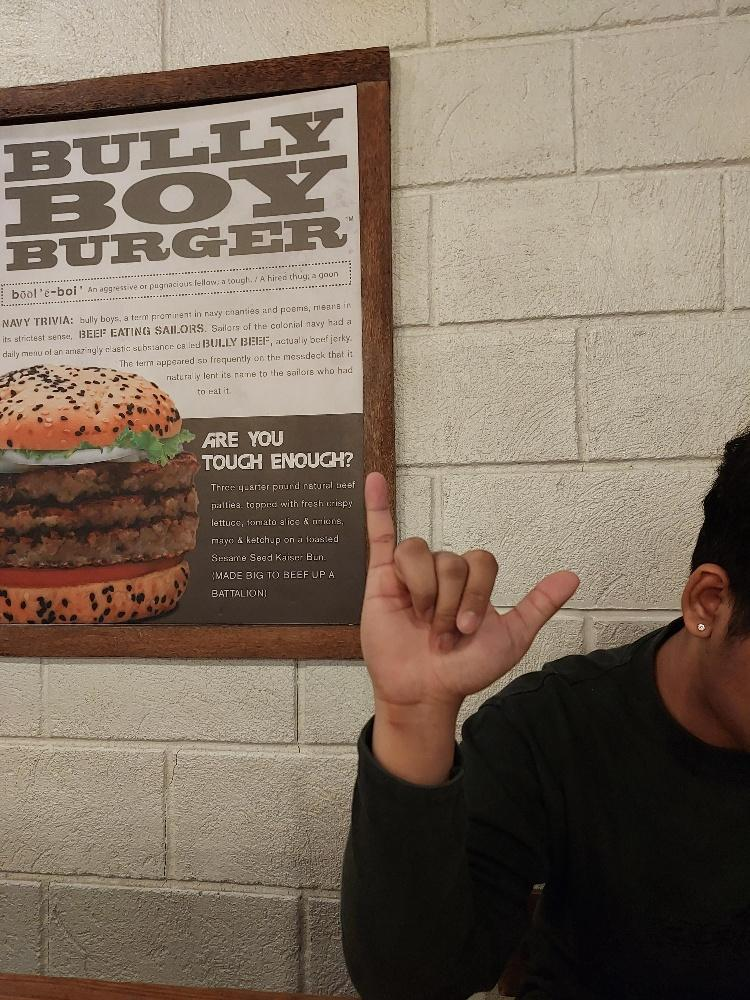y: (358, 467, 580, 707)
